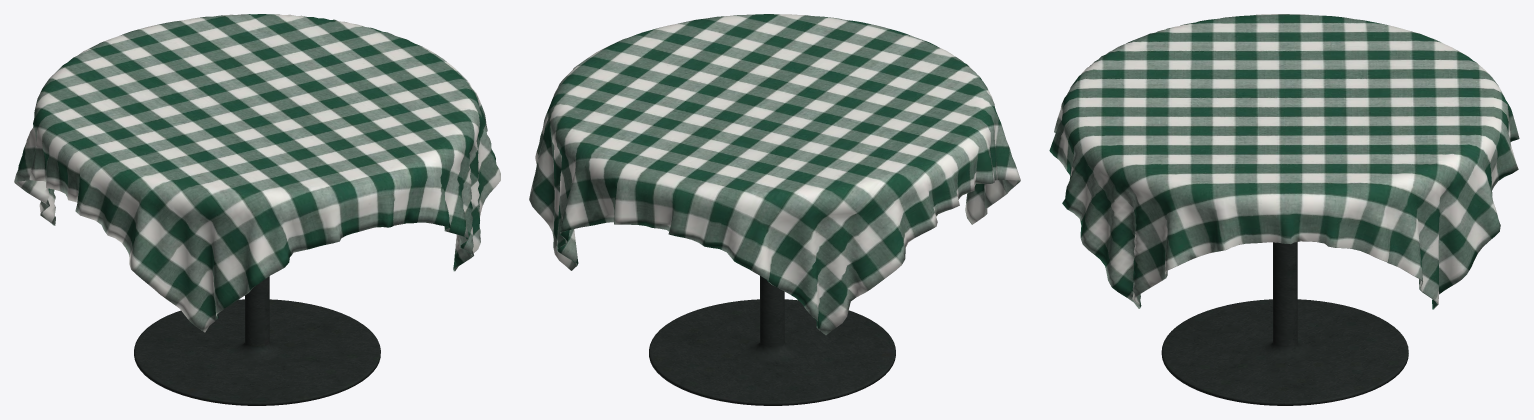
Rendered from dinner_table-v2.glb.
3 views of the same model, side by side, from view 1: azimuth 30°, elevation 25°; view 2: azimuth 150°, elevation 25°; view 3: azimuth 270°, elevation 25° (orthographic).
Visible parts, largest first — view 1: Table_DinnerTableMAT_0; view 2: Table_DinnerTableMAT_0; view 3: Table_DinnerTableMAT_0.
Boxes of the visible parts, left/top/right/bottom form: Table_DinnerTableMAT_0: left=14, top=14, right=500, bottom=405; Table_DinnerTableMAT_0: left=529, top=14, right=1020, bottom=405; Table_DinnerTableMAT_0: left=1049, top=14, right=1519, bottom=405.
Bounding box in the file's own units: 1.32 × 0.7852 × 1.33.
1 material, 1 textured.
